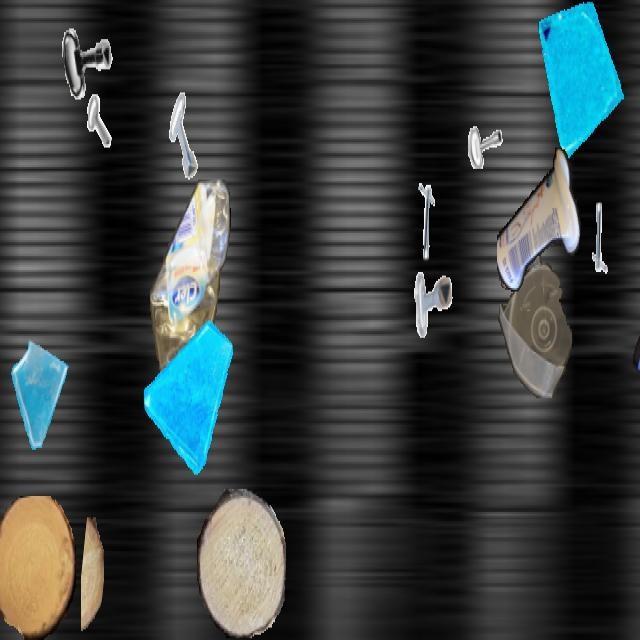glass: (537, 2, 629, 165), (144, 314, 234, 474), (8, 338, 72, 452)
metal: (55, 2, 117, 112), (405, 180, 459, 276), (456, 76, 508, 169), (161, 90, 211, 180), (569, 188, 619, 278), (63, 91, 111, 176), (412, 263, 454, 338)
plastic: (150, 180, 232, 439), (497, 144, 581, 297), (498, 240, 572, 396), (633, 327, 640, 459)
wood: (197, 489, 285, 638), (0, 496, 75, 638), (81, 518, 103, 638)
